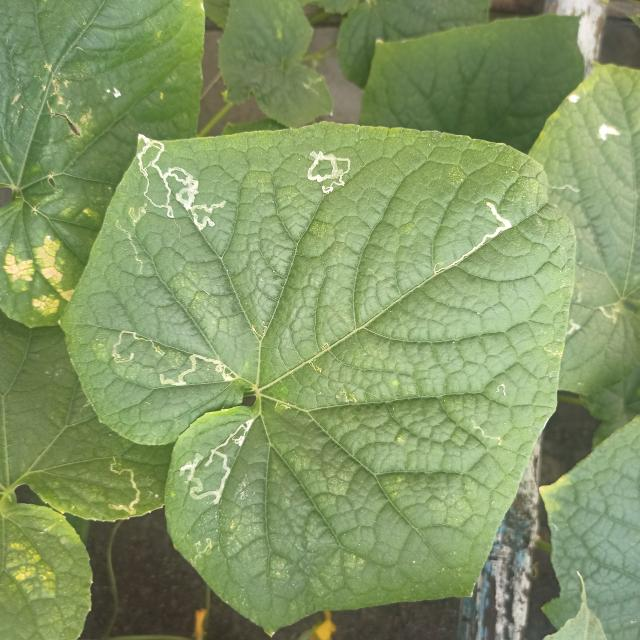disease_cucumber: (3, 236, 82, 317)
